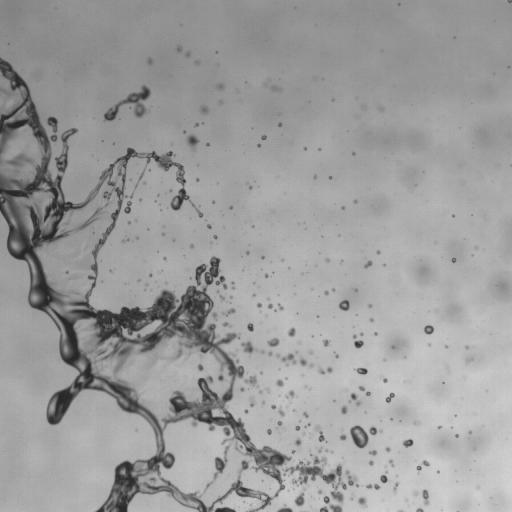droplet: (350, 425, 382, 448), (277, 353, 296, 366), (241, 341, 255, 354), (187, 135, 198, 149), (349, 393, 360, 405), (353, 335, 363, 348), (339, 300, 349, 310), (267, 338, 279, 346), (285, 390, 295, 399), (358, 497, 367, 507), (124, 201, 131, 213), (424, 325, 433, 334), (403, 439, 413, 447), (355, 368, 367, 374), (288, 327, 295, 336), (380, 474, 387, 483), (341, 405, 347, 414), (201, 106, 208, 113), (276, 379, 283, 386), (364, 261, 372, 267), (247, 323, 253, 331), (70, 274, 79, 279), (277, 303, 283, 310), (323, 339, 329, 346), (340, 433, 346, 440), (295, 438, 301, 445), (141, 374, 146, 381), (369, 450, 376, 455), (271, 86, 279, 90), (217, 84, 223, 89), (389, 459, 393, 466), (382, 377, 387, 382), (303, 412, 308, 417), (413, 420, 418, 425), (385, 447, 390, 452), (148, 58, 152, 64), (122, 238, 128, 242), (223, 322, 229, 326), (416, 508, 423, 511), (177, 46, 181, 51), (261, 135, 266, 139), (324, 290, 328, 295), (220, 295, 224, 300), (257, 303, 262, 307), (268, 303, 272, 308), (359, 386, 364, 390), (277, 421, 282, 425), (305, 423, 310, 427), (267, 429, 271, 434), (369, 460, 373, 465), (318, 489, 322, 494), (207, 224, 211, 228), (376, 250, 380, 254), (268, 351, 272, 355), (240, 387, 244, 391), (366, 391, 370, 395), (295, 426, 299, 430), (467, 358, 472, 361), (186, 52, 189, 56), (452, 258, 455, 262), (265, 273, 268, 277), (335, 353, 338, 357), (265, 388, 269, 391), (244, 410, 248, 413), (318, 448, 321, 452), (350, 496, 353, 500), (380, 107, 383, 110), (195, 123, 198, 126), (278, 123, 281, 126), (206, 143, 209, 146), (249, 185, 252, 188), (129, 194, 132, 197), (214, 235, 217, 238), (326, 258, 329, 261), (370, 318, 373, 321), (414, 492, 417, 495), (507, 0, 511, 2), (232, 284, 234, 288), (257, 144, 260, 146), (230, 206, 232, 209), (342, 206, 344, 209), (190, 245, 193, 247), (246, 252, 249, 254), (163, 257, 166, 259), (149, 274, 152, 276), (369, 304, 371, 307), (261, 350, 263, 353), (310, 350, 312, 353), (292, 450, 294, 453), (314, 176, 316, 178), (329, 177, 331, 179), (354, 200, 356, 202), (445, 345, 447, 347), (465, 346, 467, 348), (259, 390, 261, 392), (438, 426, 440, 428), (303, 433, 305, 435), (455, 434, 457, 436), (326, 449, 328, 451)
ligament: (0, 58, 355, 511), (104, 85, 150, 120), (314, 424, 325, 441), (271, 404, 284, 416), (416, 460, 429, 471), (300, 358, 313, 368), (422, 489, 429, 505), (318, 367, 332, 374), (277, 505, 293, 511), (385, 393, 394, 402), (224, 308, 235, 315), (367, 484, 379, 489), (138, 172, 144, 181), (393, 482, 398, 491), (250, 397, 254, 406), (398, 510, 403, 511)
